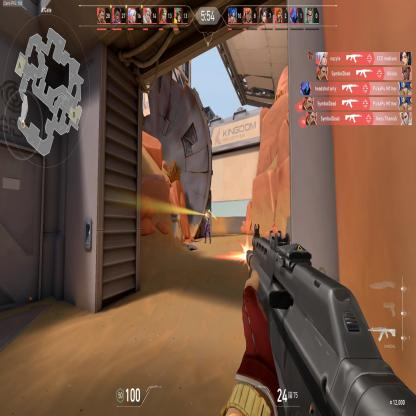enemy: (204, 207, 211, 244)
